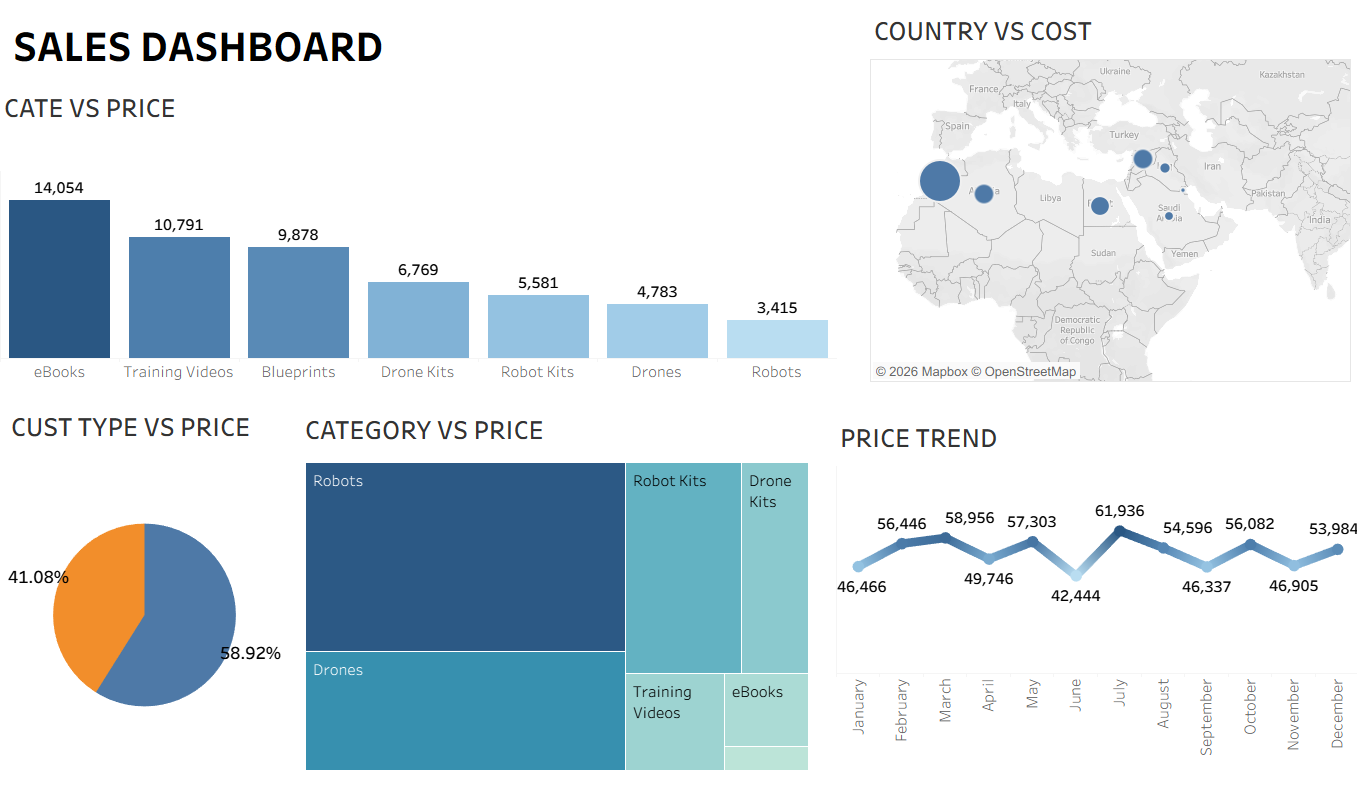

The page's visual inventory and layout, read from the dashboard file:
{"tool":"tableau","page":{"name":"Dashboard 1","canvas":[1000,1000],"units":"permille","ordinal":0},"visuals":[{"type":"worksheet","title":"MAP","mark":"Automatic","box":[531.7,23.7,290.3,465.7]},{"type":"text","box":[12.7,30,272.8,77.4]},{"type":"worksheet","title":"BAR ","mark":"Automatic","rows":["Quantity"],"cols":["ProdCategory"],"box":[6.6,119.9,505.1,389.5]},{"type":"worksheet","title":"DOUNT","mark":"Pie","box":[10.9,518.1,166,461.9]},{"type":"worksheet","title":"TREE MAP","mark":"Automatic","box":[188.3,521.9,316.2,458.2]},{"type":"worksheet","title":"LINE","mark":"Automatic","rows":["Price"],"cols":["OrderDate"],"box":[511.2,531.8,315.6,445.7]}]}

Visuals, with their boxes on the dashboard's canvas, which has no fixed pixel size, in thousandths of its width and height (x1, y1, x2, y2). These are canvas units, not pixel positions in the 1357x786 screenshot, which may show the page scaled, cropped or inside an application window:
"MAP" worksheet: l=532, t=24, r=822, b=489
text: l=13, t=30, r=286, b=107
"BAR " worksheet: l=7, t=120, r=512, b=509
"DOUNT" worksheet (Pie marks): l=11, t=518, r=177, b=980
"TREE MAP" worksheet: l=188, t=522, r=504, b=980
"LINE" worksheet: l=511, t=532, r=827, b=978
